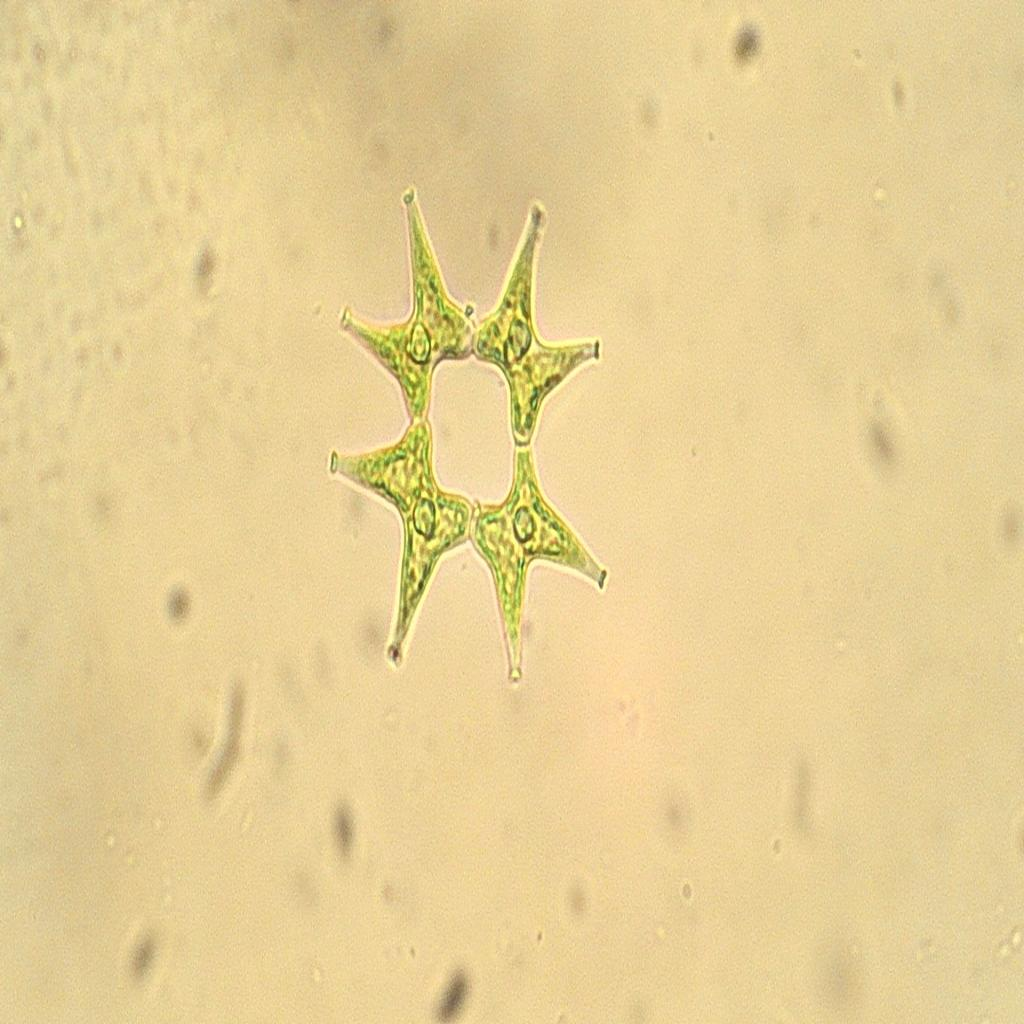Pediastrum_CO: (320, 172, 625, 697)
